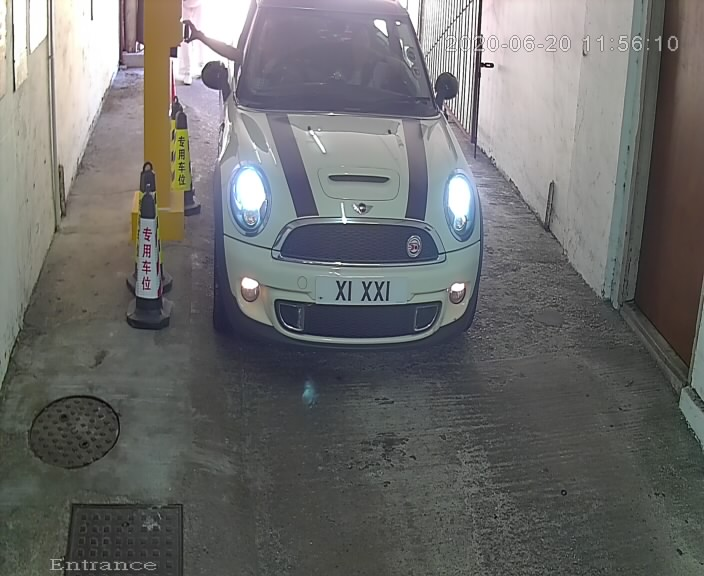privatecar: (203, 3, 504, 391)
